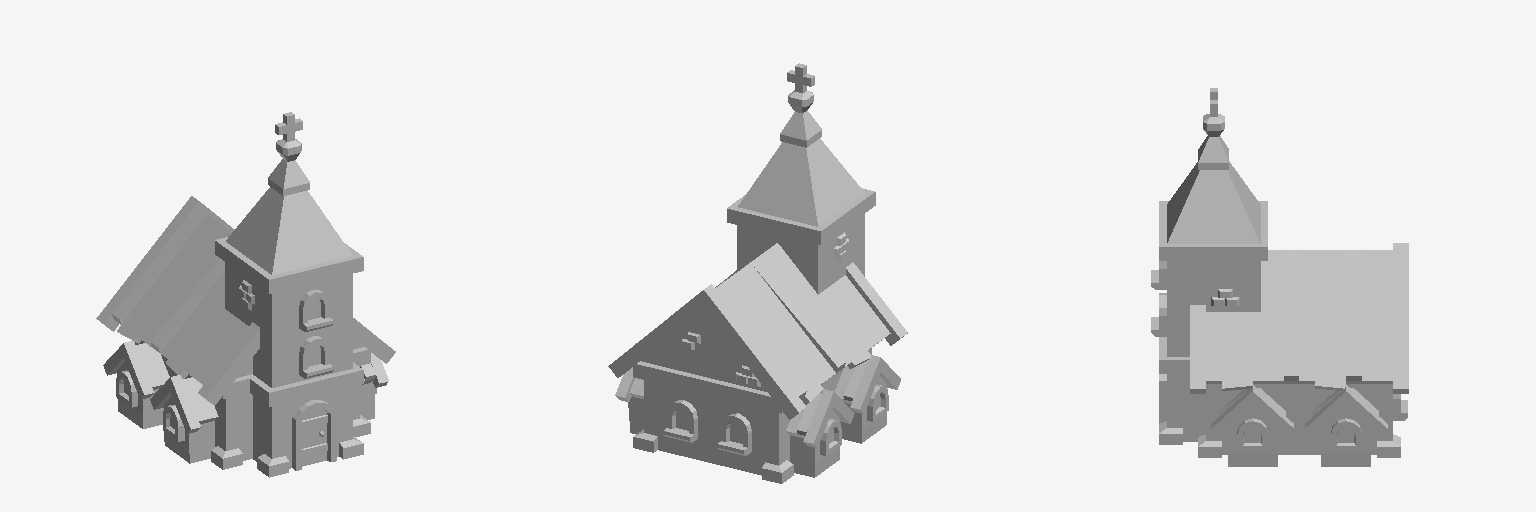
File: building_church_red.obj
3 views of the same model, side by side, from view 1: azimuth 30°, elevation 25°; view 2: azimuth 150°, elevation 25°; view 3: azimuth 270°, elevation 25° (orthographic).
Parts seen in each view (by area): view 1: building_church_red; view 2: building_church_red; view 3: building_church_red.
Boxes of the visible parts, x1=… form: building_church_red: x1=96, y1=112, x2=395, y2=477; building_church_red: x1=608, y1=63, x2=907, y2=483; building_church_red: x1=1151, y1=88, x2=1408, y2=466.
Bounding box in the file's own units: 1.03 × 1.65 × 1.16.